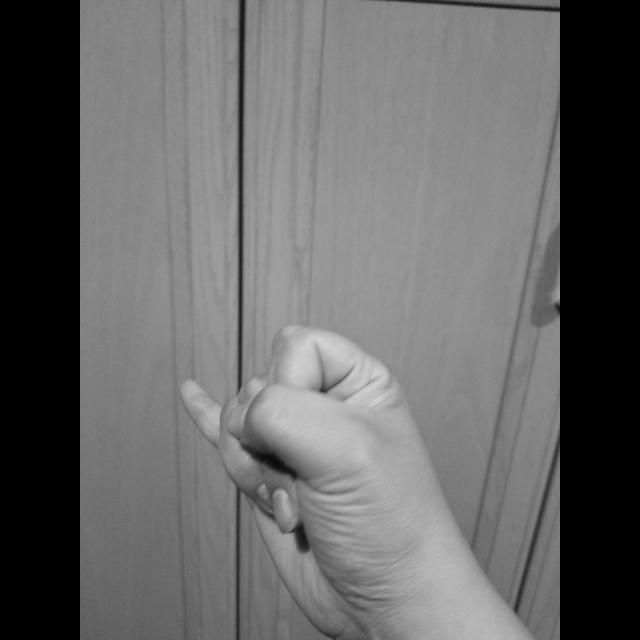J: (174, 314, 446, 640)
